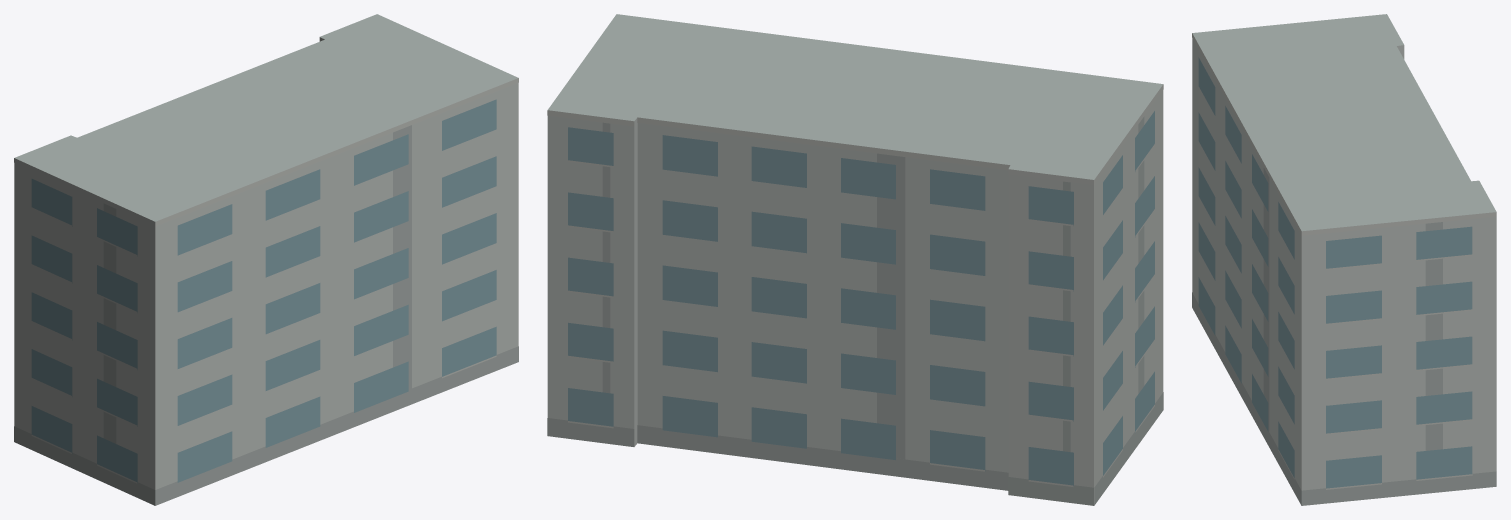
File: survey-upis-32964480.glb
The picture shows the model from 3 angles, left to right: view 1: azimuth 30°, elevation 25°; view 2: azimuth 150°, elevation 25°; view 3: azimuth 270°, elevation 25°; orthographic projection. The views are drawn at different scales.
Visible parts, largest first — view 1: survey-upis-32964480.tmp; view 2: survey-upis-32964480.tmp; view 3: survey-upis-32964480.tmp.
Part boxes in pixels (left/top/right/bottom): survey-upis-32964480.tmp: left=14, top=14, right=518, bottom=505; survey-upis-32964480.tmp: left=547, top=14, right=1163, bottom=505; survey-upis-32964480.tmp: left=1192, top=14, right=1496, bottom=505.
Size of the model in its own units: 24.6 by 14.5 by 14.58.
